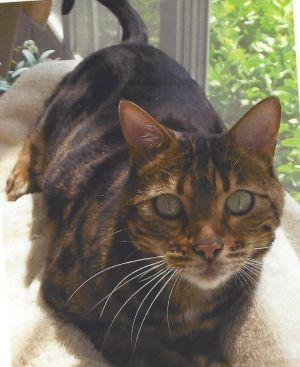bengal: (107, 84, 297, 305)
